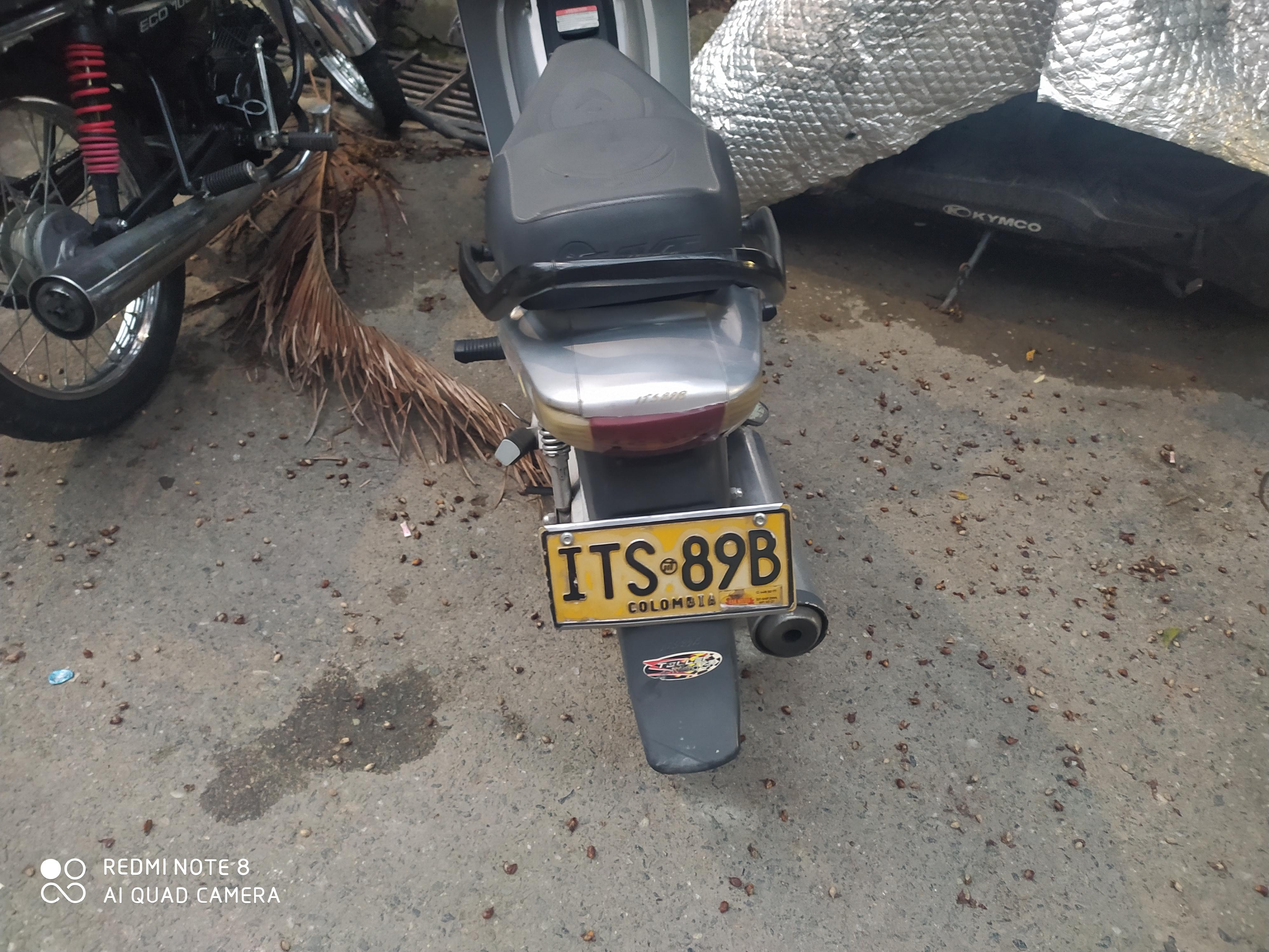placa: (519, 497, 808, 637)
